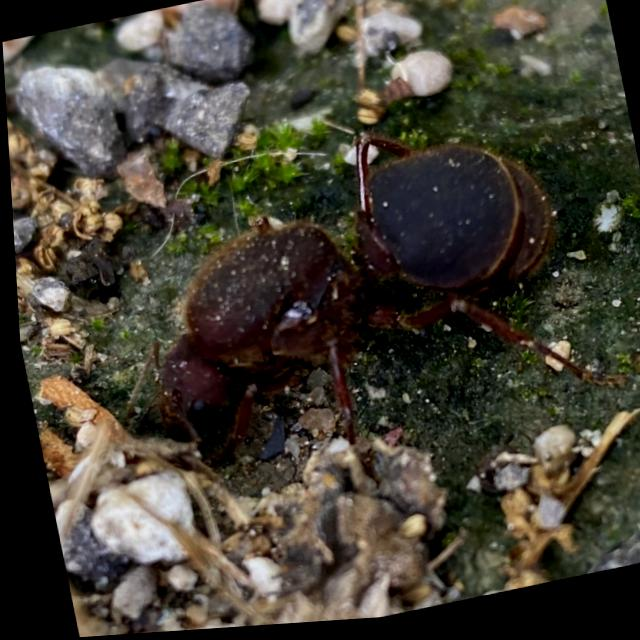Alive-Female-Dealate: (74, 89, 630, 495)
